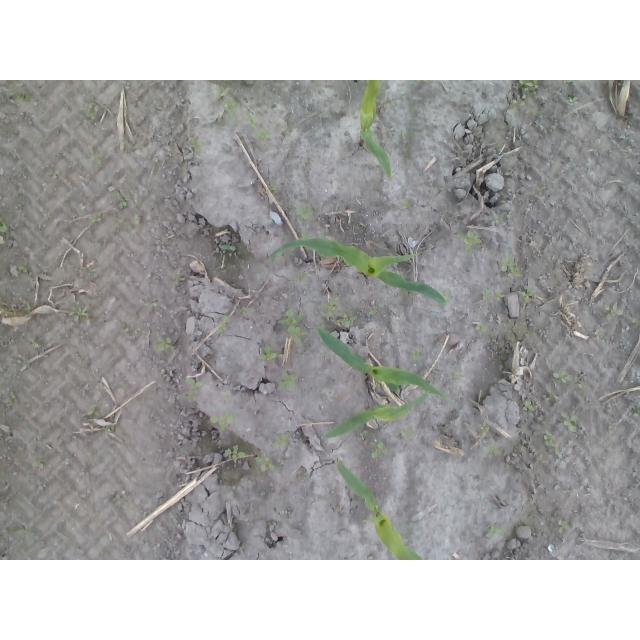Maize: (268, 231, 449, 305), (318, 326, 456, 407), (331, 456, 425, 561), (324, 392, 429, 445), (359, 80, 394, 178)
Weeds: (277, 308, 309, 344), (458, 229, 483, 256), (497, 254, 523, 277), (183, 375, 205, 401), (209, 414, 234, 434), (224, 444, 249, 464), (254, 456, 283, 472), (479, 287, 506, 304), (256, 343, 280, 362), (517, 80, 543, 97), (279, 366, 297, 390), (543, 433, 561, 456), (294, 206, 318, 223), (154, 335, 174, 353), (336, 312, 357, 329), (485, 526, 504, 544), (0, 214, 10, 246), (552, 369, 572, 385), (604, 304, 624, 320), (221, 99, 241, 114), (563, 413, 577, 433), (481, 443, 501, 457), (272, 434, 289, 450), (520, 286, 537, 302), (190, 137, 208, 152), (86, 103, 100, 122), (448, 366, 464, 382), (216, 314, 228, 335), (256, 129, 274, 143), (73, 304, 88, 320), (88, 145, 104, 160), (371, 440, 385, 457), (213, 80, 227, 97), (368, 304, 384, 317), (631, 81, 640, 103), (325, 303, 336, 321), (111, 493, 129, 504), (512, 97, 526, 111), (246, 112, 258, 128), (13, 91, 32, 101), (87, 400, 98, 417), (400, 426, 414, 439), (524, 399, 537, 413), (557, 519, 575, 529), (175, 271, 186, 287), (131, 213, 143, 227), (80, 266, 97, 275), (32, 459, 47, 469), (474, 322, 489, 332), (223, 243, 236, 254), (400, 199, 412, 210), (480, 424, 493, 434), (495, 215, 506, 226), (8, 391, 16, 406), (24, 302, 33, 315), (576, 382, 589, 391), (19, 264, 30, 274), (411, 351, 422, 361), (567, 95, 577, 106), (563, 81, 577, 88), (270, 183, 278, 194), (119, 200, 130, 208), (224, 392, 233, 401), (238, 306, 246, 316), (92, 217, 103, 224), (296, 272, 304, 281), (633, 408, 640, 416)
